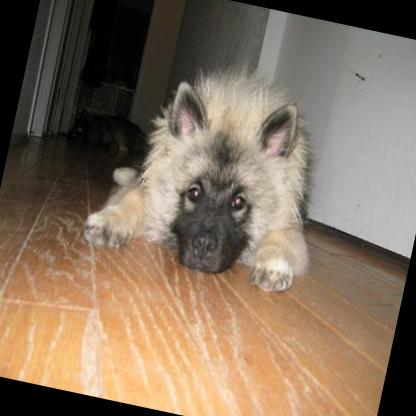keeshond: (76, 40, 346, 298)
